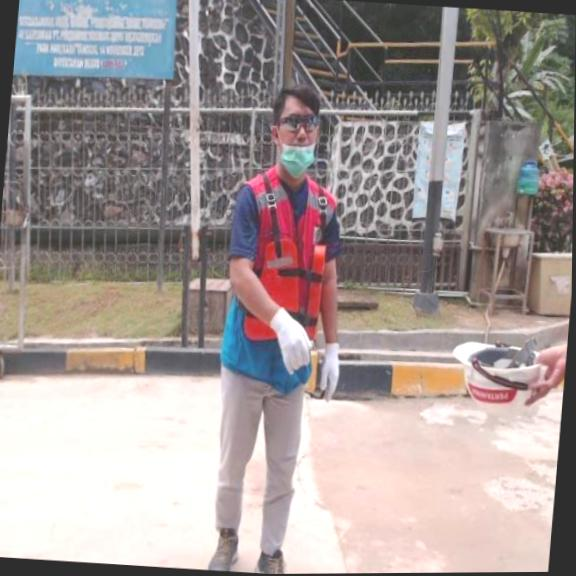safety_vest: (242, 240, 327, 344)
